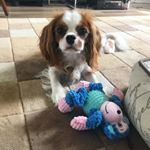puppy: (35, 8, 105, 105)
